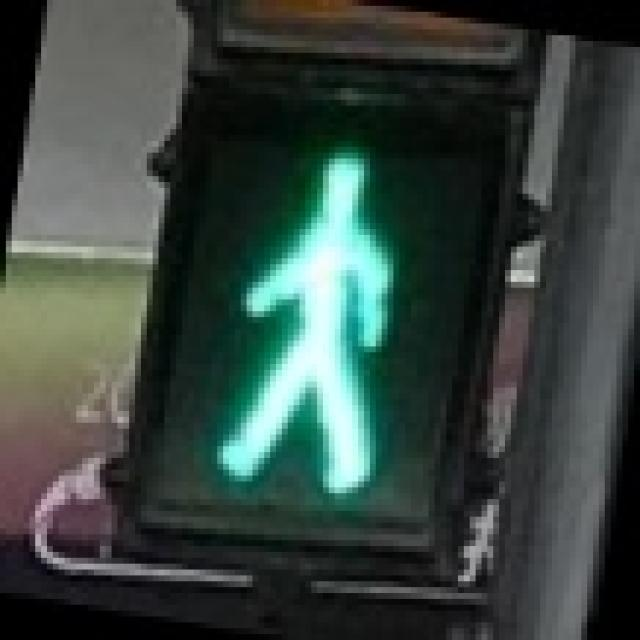green_light: (106, 70, 511, 552)
